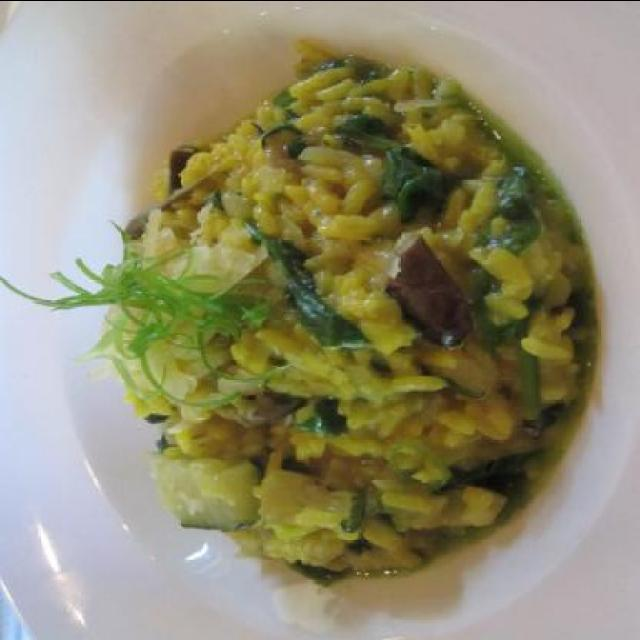Risotto: (105, 63, 557, 588)
